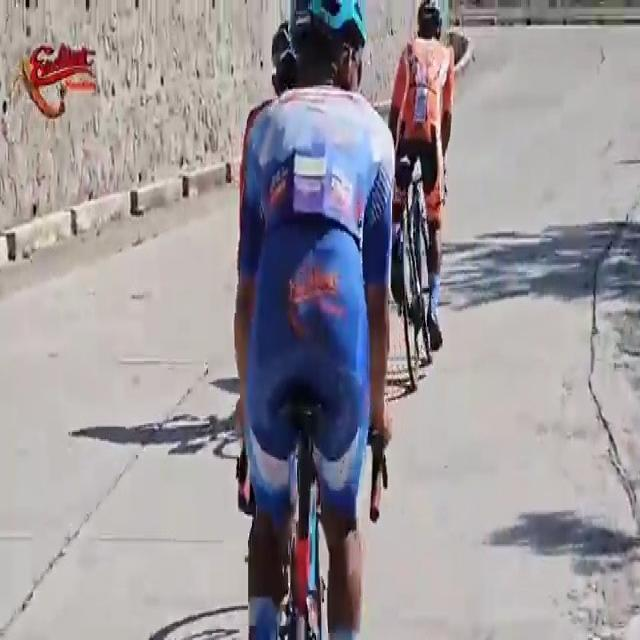bike: (240, 0, 388, 640), (388, 0, 457, 382)
